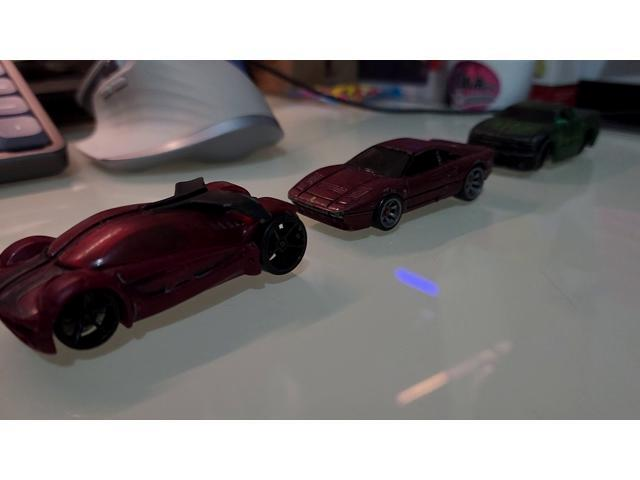toy-car: (0, 174, 309, 358), (287, 136, 494, 233), (466, 100, 603, 172)
